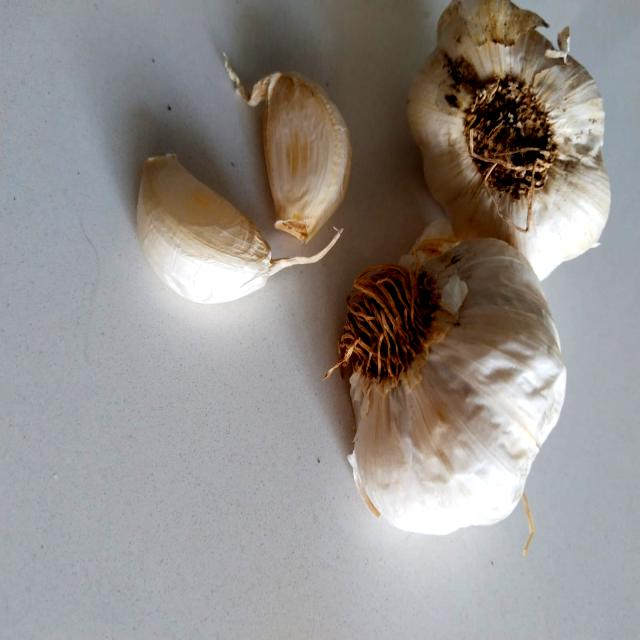garlic: (311, 220, 586, 548), (399, 0, 630, 275), (121, 132, 276, 327), (242, 52, 360, 260)
